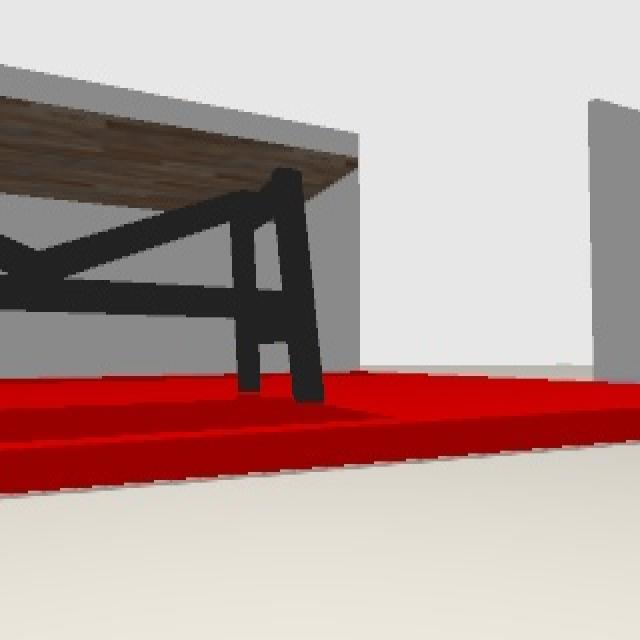dining: (1, 95, 358, 402)
